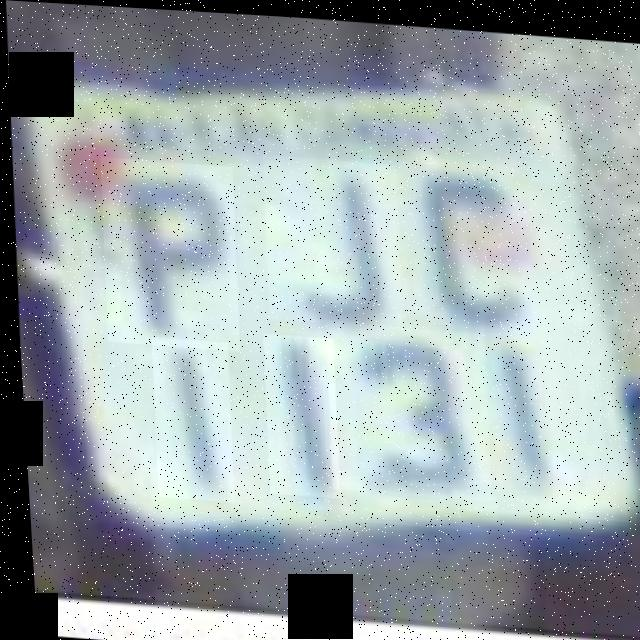1: (144, 336, 231, 500), (256, 330, 338, 495), (472, 324, 554, 480)
3: (319, 318, 490, 495)
J: (257, 151, 401, 324)
P: (95, 155, 239, 348)
